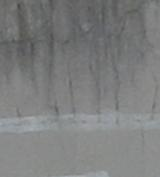fissura: (0, 0, 155, 126)
